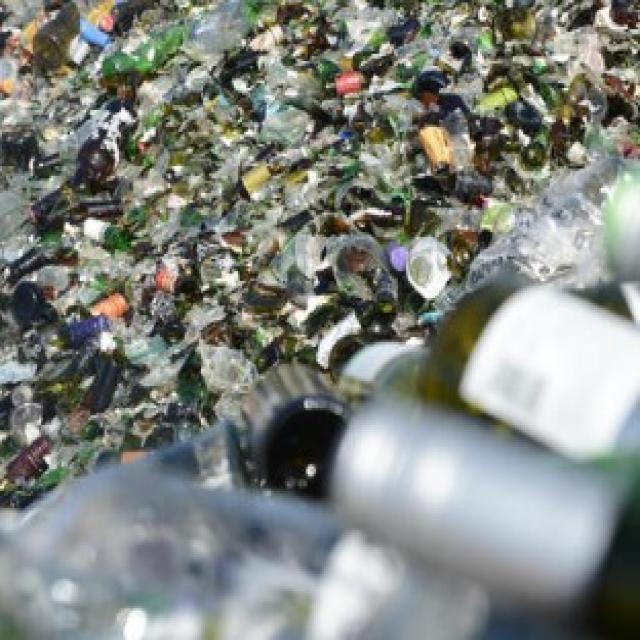electronic: (330, 259, 640, 640), (8, 116, 491, 342)
